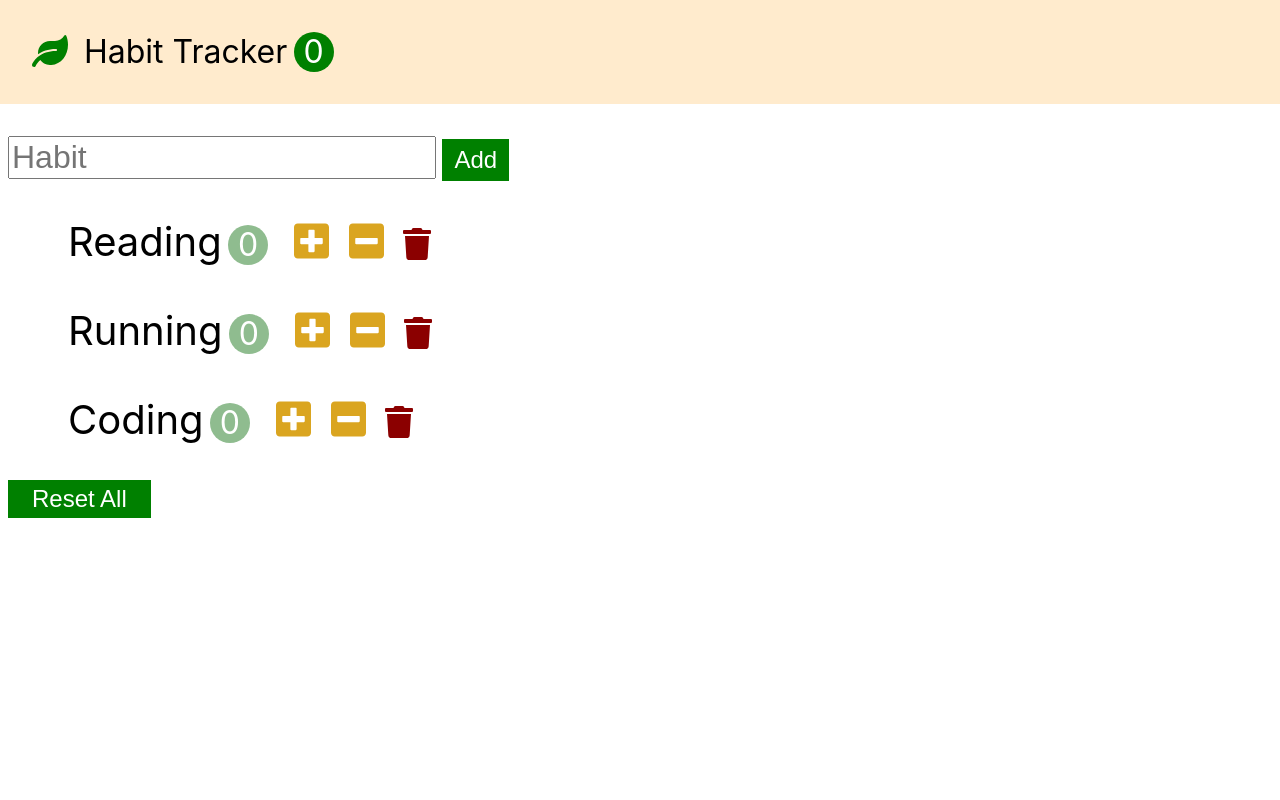
Test: habit-tracker › adds new habit at the end
Type "Studying" into the field with placeholder "Habit".
click(222, 158); type("Studying")  # box x1=8 y1=136 x2=436 y2=179
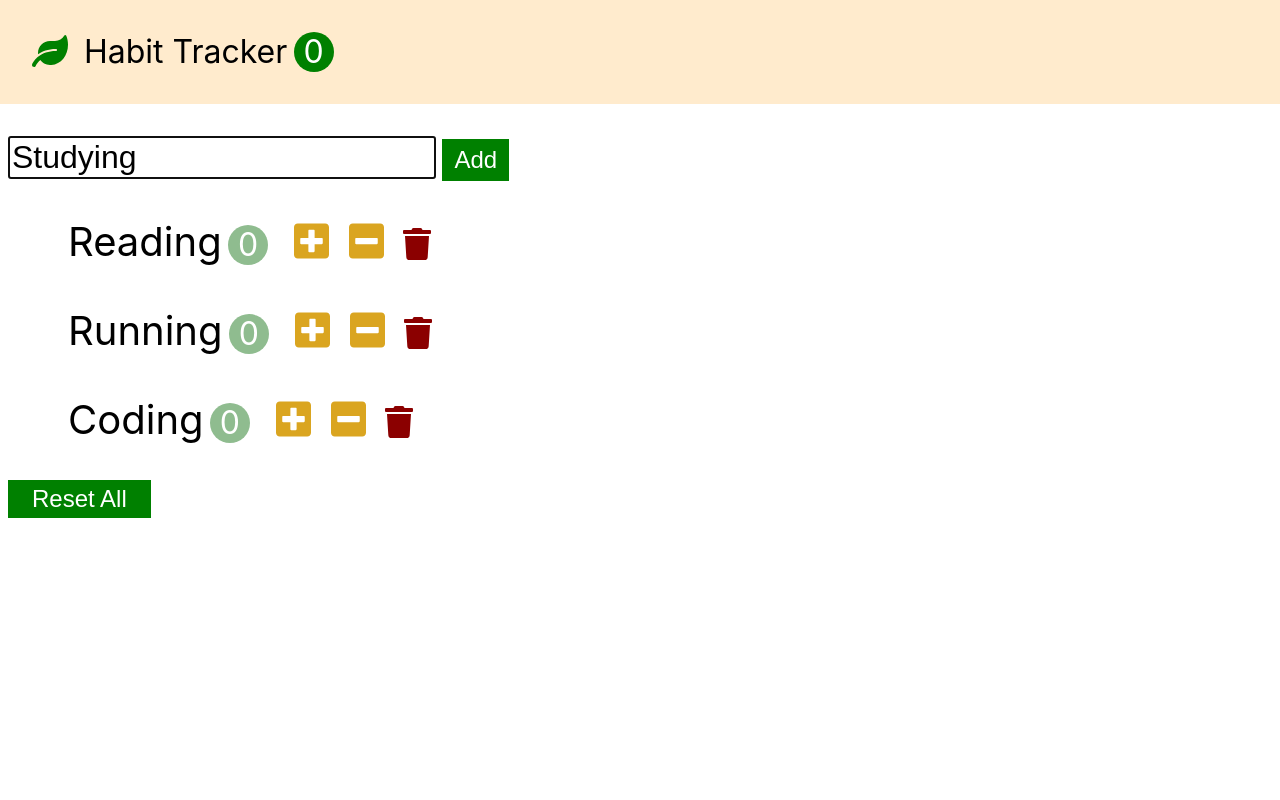
Click the button "Add".
click(476, 160)  # box x1=442 y1=139 x2=509 y2=181
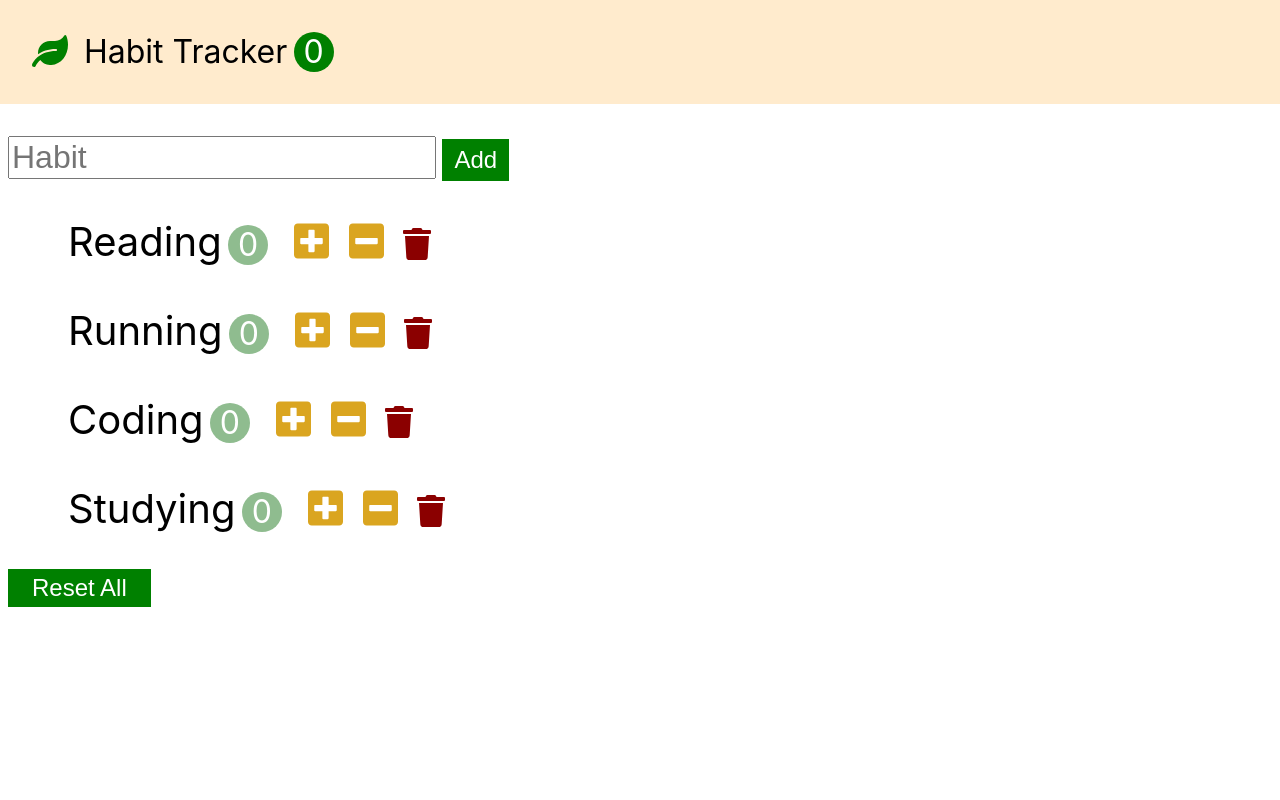
Check: the text with test id "habit-name" reads "Studying", box x1=68 y1=484 x2=235 y2=533
Check: the text with test id "habit-count" next to "Studying" reads "0", box x1=242 y1=492 x2=282 y2=532
